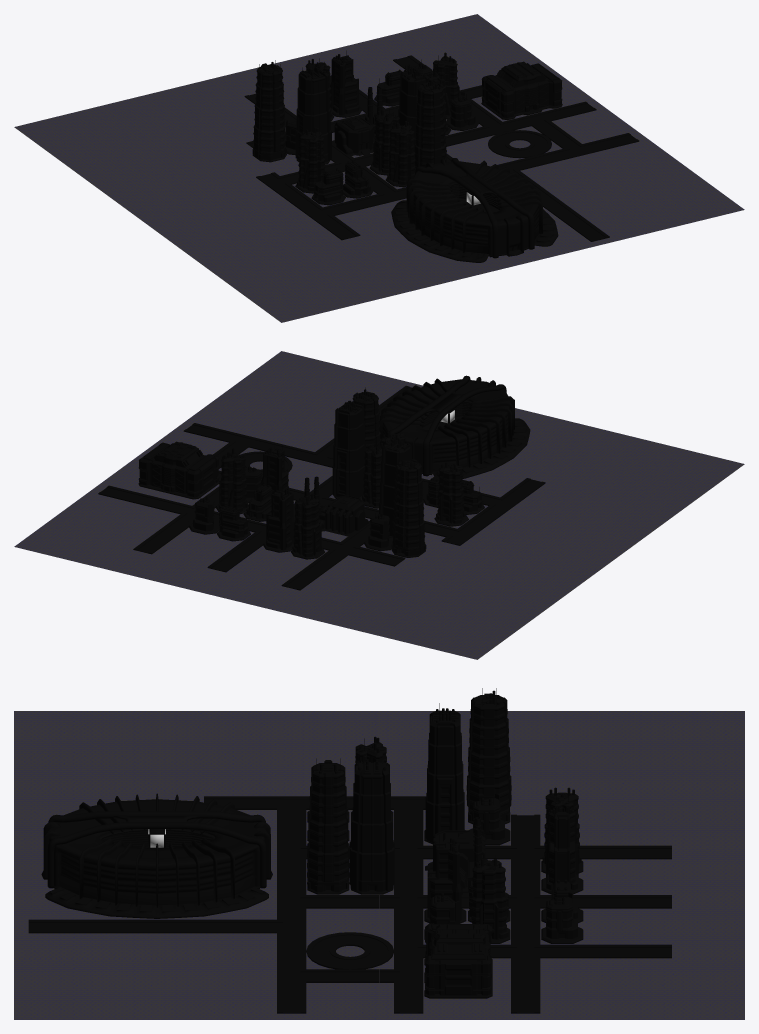
The model's file is city.obj.
3 renders of one model, top to bottom at view 1: azimuth 30°, elevation 25°; view 2: azimuth 150°, elevation 25°; view 3: azimuth 270°, elevation 25°, orthographic. The views are drawn at different scales.
Parts seen in each view (by area): view 1: ground, Stadium_Stadium_Body.004, ConcertHall_ConcertHall_Body.001, Apartment_lvl4_1_Body.001, Apartment_lvl4_3_Body.001_Apartment_lvl4_3_Body.002, Apartment_lvl4_1_Body_Apartment_lvl4_1_Body.002, CoalPowerStation_CoalPowerStation_SecondDoor, Apartment_lvl3_1_Body.001_Apartment_lvl3_1_Body.002, Apartment_lvl3_4_Body.002_Apartment_lvl3_4_Foundation.004, Apartment_lvl3_4_Body.004_Apartment_lvl3_4_Foundation.002, Apartment_lvl4_3_Body_Apartment_lvl4_3_Body.001, Apartment_lvl3_4_Body_Apartment_lvl3_4_Foundation.001 (+10 smaller); view 2: ground, Stadium_Stadium_Body.004, ConcertHall_ConcertHall_Body.001, Apartment_lvl4_3_Body_Apartment_lvl4_3_Body.001, Apartment_lvl4_1_Body.001, CoalPowerStation_CoalPowerStation_SecondDoor, Apartment_lvl3_4_Body.003_Apartment_lvl3_4_Foundation.005, Apartment_lvl3_4_Body.004_Apartment_lvl3_4_Foundation.002, Apartment_lvl3_1_Body.001_Apartment_lvl3_1_Body.002, Apartment_lvl4_3_Body.001_Apartment_lvl4_3_Body.002, Apartment_lvl3_4_Body.001_Apartment_lvl3_4_Foundation.003, Apartment_lvl3_4_Body_Apartment_lvl3_4_Foundation.001 (+11 smaller); view 3: ground, Stadium_Stadium_Body.004, Apartment_lvl4_3_Body_Apartment_lvl4_3_Body.001, Apartment_lvl4_1_Body_Apartment_lvl4_1_Body.002, ConcertHall_ConcertHall_Body.001, Apartment_lvl4_1_Body.001, Apartment_lvl4_3_Body.001_Apartment_lvl4_3_Body.002, Apartment_lvl3_1_Body.001_Apartment_lvl3_1_Body.002, Apartment_lvl3_4_Body.001_Apartment_lvl3_4_Foundation.003, Apartment_lvl3_1_Body_Apartment_lvl3_1_Body.001, CoalPowerStation_CoalPowerStation_SecondDoor, Apartment_lvl2_2_Body.001_Apartment_lvl2_2_Body.002 (+46 smaller).
Boxes of the visible parts, box(x1,y1,x2,y2) form: ground: box(14, 14, 744, 322); Stadium_Stadium_Body.004: box(391, 158, 558, 262); ConcertHall_ConcertHall_Body.001: box(481, 61, 562, 120); Apartment_lvl4_1_Body.001: box(252, 60, 286, 162); Apartment_lvl4_3_Body.001_Apartment_lvl4_3_Body.002: box(295, 63, 331, 164); Apartment_lvl4_1_Body_Apartment_lvl4_1_Body.002: box(414, 79, 446, 171); CoalPowerStation_CoalPowerStation_SecondDoor: box(332, 87, 382, 155); Apartment_lvl3_1_Body.001_Apartment_lvl3_1_Body.002: box(330, 50, 362, 117); Apartment_lvl3_4_Body.002_Apartment_lvl3_4_Foundation.004: box(385, 121, 415, 187); Apartment_lvl3_4_Body.004_Apartment_lvl3_4_Foundation.002: box(295, 127, 325, 193); Apartment_lvl4_3_Body_Apartment_lvl4_3_Body.001: box(398, 66, 428, 150); Apartment_lvl3_4_Body_Apartment_lvl3_4_Foundation.001: box(369, 109, 399, 175); ground: box(14, 351, 744, 659); Stadium_Stadium_Body.004: box(379, 375, 530, 478); ConcertHall_ConcertHall_Body.001: box(138, 441, 219, 499); Apartment_lvl4_3_Body_Apartment_lvl4_3_Body.001: box(332, 399, 365, 498); Apartment_lvl4_1_Body.001: box(391, 459, 426, 557); CoalPowerStation_CoalPowerStation_SecondDoor: box(304, 476, 368, 536); Apartment_lvl3_4_Body.003_Apartment_lvl3_4_Foundation.005: box(290, 493, 325, 559); Apartment_lvl3_4_Body.004_Apartment_lvl3_4_Foundation.002: box(434, 462, 468, 526); Apartment_lvl3_1_Body.001_Apartment_lvl3_1_Body.002: box(263, 485, 295, 552); Apartment_lvl4_3_Body.001_Apartment_lvl4_3_Body.002: box(379, 435, 411, 537); Apartment_lvl3_4_Body.001_Apartment_lvl3_4_Foundation.003: box(215, 448, 248, 514); Apartment_lvl3_4_Body_Apartment_lvl3_4_Foundation.001: box(361, 442, 384, 508); ground: box(14, 711, 744, 1019); Stadium_Stadium_Body.004: box(41, 793, 272, 918); Apartment_lvl4_3_Body_Apartment_lvl4_3_Body.001: box(349, 756, 394, 894); Apartment_lvl4_1_Body_Apartment_lvl4_1_Body.002: box(307, 758, 349, 894); ConcertHall_ConcertHall_Body.001: box(424, 923, 492, 998); Apartment_lvl4_1_Body.001: box(466, 688, 511, 824); Apartment_lvl4_3_Body.001_Apartment_lvl4_3_Body.002: box(424, 703, 465, 844); Apartment_lvl3_1_Body.001_Apartment_lvl3_1_Body.002: box(541, 807, 583, 894); Apartment_lvl3_4_Body.001_Apartment_lvl3_4_Foundation.003: box(471, 855, 510, 943); Apartment_lvl3_1_Body_Apartment_lvl3_1_Body.001: box(424, 835, 466, 923); CoalPowerStation_CoalPowerStation_SecondDoor: box(425, 817, 487, 894); Apartment_lvl2_2_Body.001_Apartment_lvl2_2_Body.002: box(541, 892, 583, 943).
Bounding box in the file's own units: 250 × 49.01 × 250.
4 materials, 1 textured.
